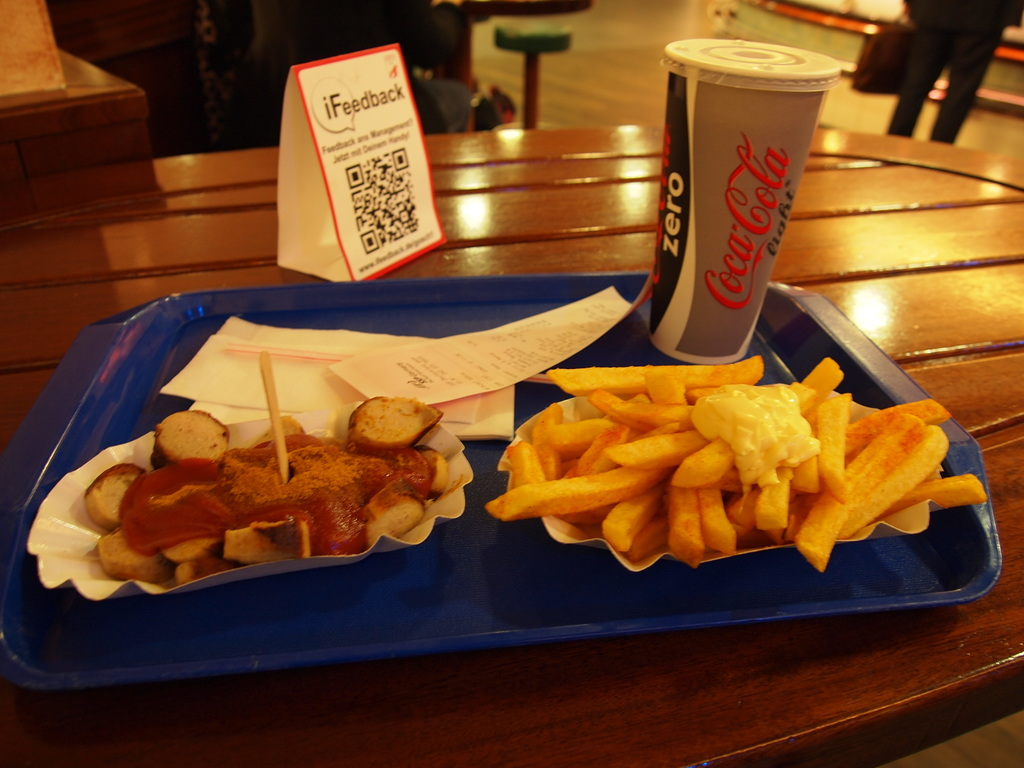French fries: (527, 366, 930, 575)
